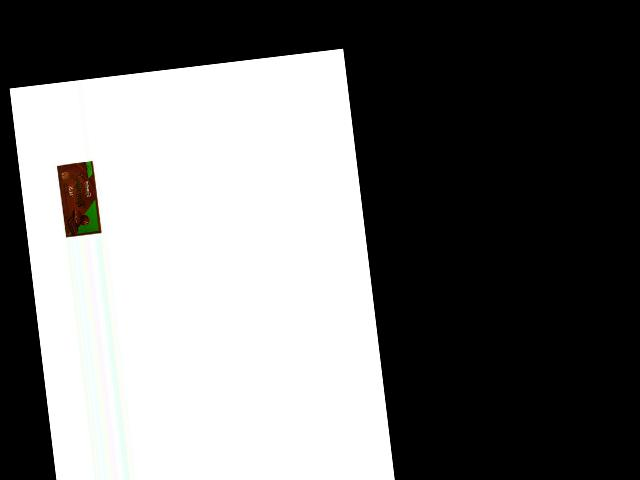chocolate: (53, 157, 103, 238)
